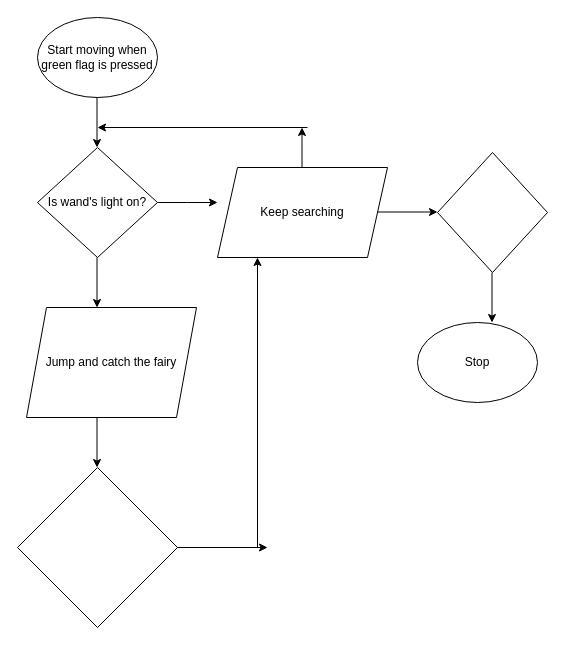
Some shapes in this 565 by 645 pixel diagram are drawn without their labels. The shapes that lost their labels are listed below. From the top down, each one's box as (x1, y1, x2, y2) in pixels, then its label:
(436, 152, 548, 272): 2 minutes over?
(16, 466, 178, 628): Heard cheering sound?
